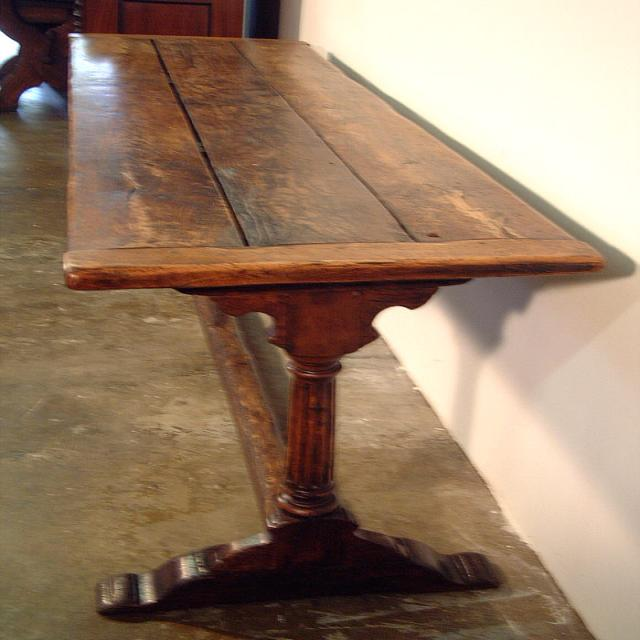table: (67, 35, 604, 621)
